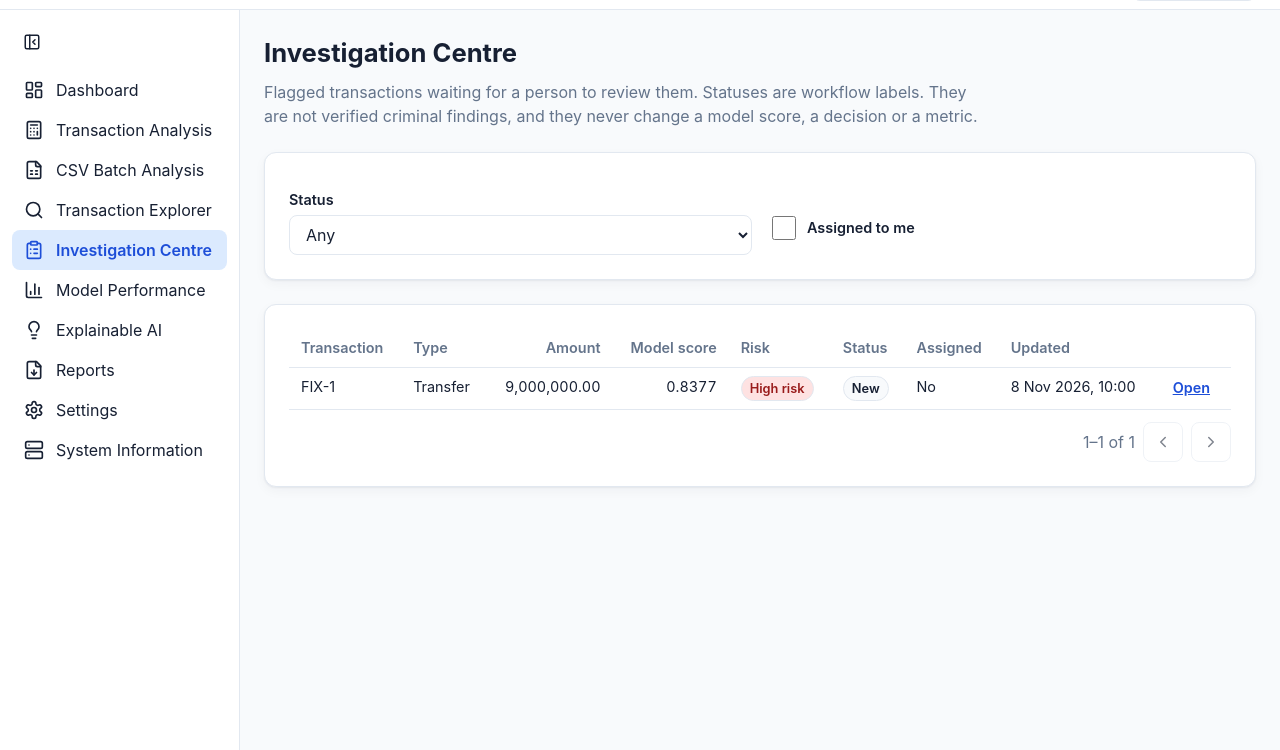
investigation centre › is read-only for analysts
This screenshot has width=1280, height=750.
Click the button "Open".
click(1191, 388)  # box x1=1168 y1=376 x2=1215 y2=400
(page scrolled)
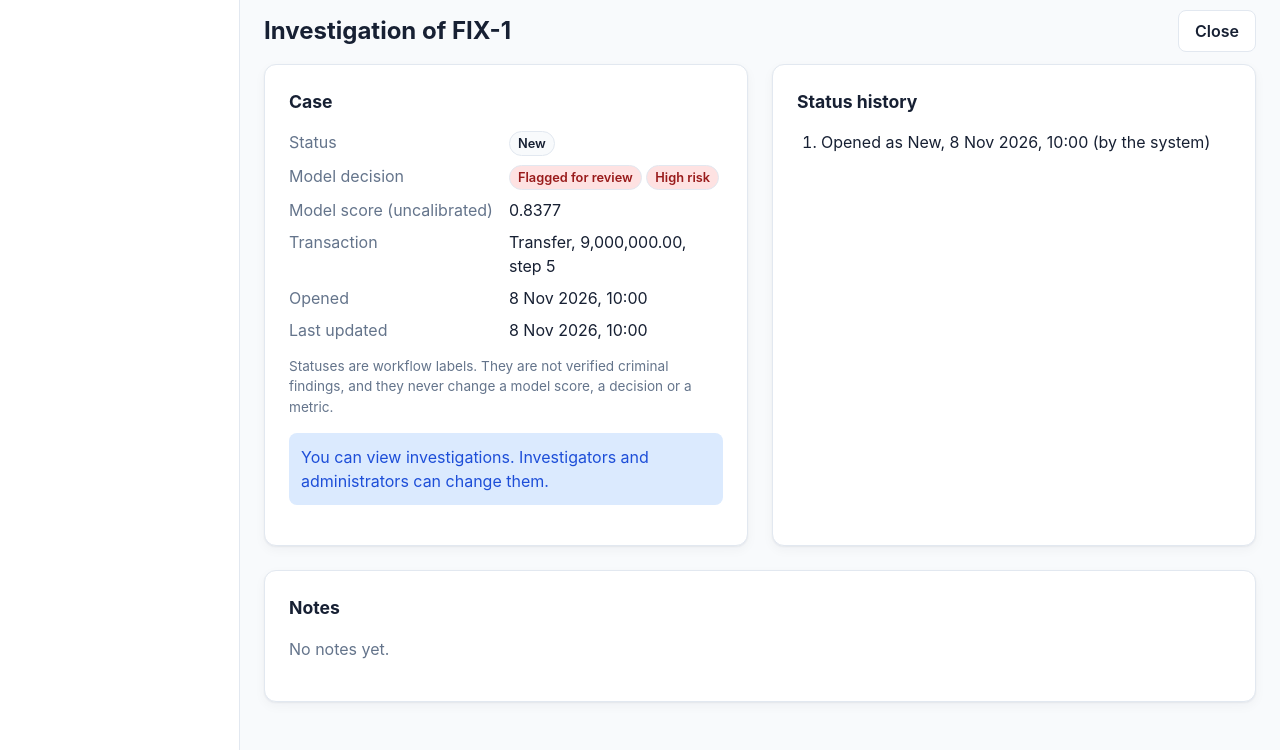
expect the text "Investigators and administrators can change them" is shown: met, box x1=301 y1=447 x2=649 y2=491
